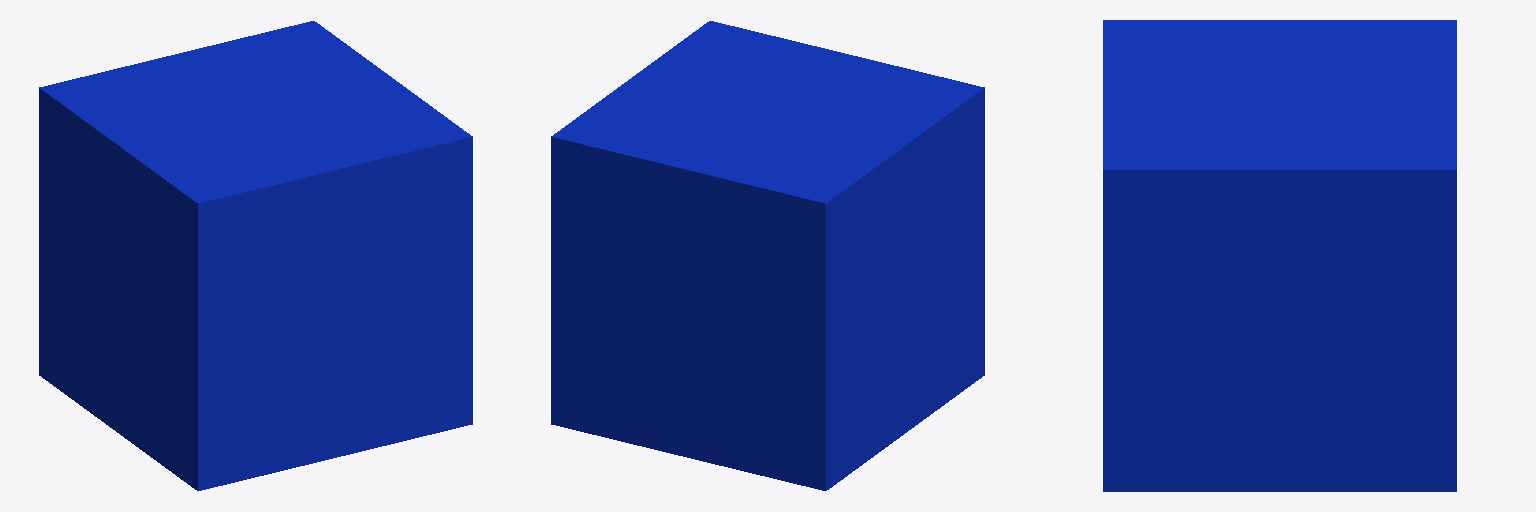
The robot description file, URDF, robot "blue_cube":
<?xml version="1.0"?>
<!-- A blue cube of 5 cm edge, 50 g. -->
<robot name="blue_cube">
  <material name="blue">
    <color rgba="0.10 0.25 0.80 1"/>
  </material>
  <link name="blue_cube">
    <inertial>
      <mass value="0.05"/>
      <inertia ixx="2.08e-5" iyy="2.08e-5" izz="2.08e-5" ixy="0" ixz="0" iyz="0"/>
    </inertial>
    <visual>
      <geometry><box size="0.05 0.05 0.05"/></geometry>
      <material name="blue"/>
    </visual>
    <collision>
      <geometry><box size="0.05 0.05 0.05"/></geometry>
    </collision>
  </link>
</robot>

--- Render facts (derived) ---
The picture shows the robot from 3 angles, left to right: view 1: azimuth 30°, elevation 25°; view 2: azimuth 150°, elevation 25°; view 3: azimuth 270°, elevation 25°; orthographic projection.
Model blue_cube with 1 links and 0 joints (none), rooted at blue_cube, posed all joints at 0.
Links seen in each view (by area): view 1: blue_cube; view 2: blue_cube; view 3: blue_cube.
Boxes of the visible links, x1,y1,x2,y2 form: blue_cube: (39, 21, 472, 490); blue_cube: (551, 21, 984, 490); blue_cube: (1103, 20, 1456, 491).
Bounding box of the posed robot: 0.05 × 0.05 × 0.05 m (x, y, z).
Geometry: primitives only (box / cylinder / sphere), no mesh files.
